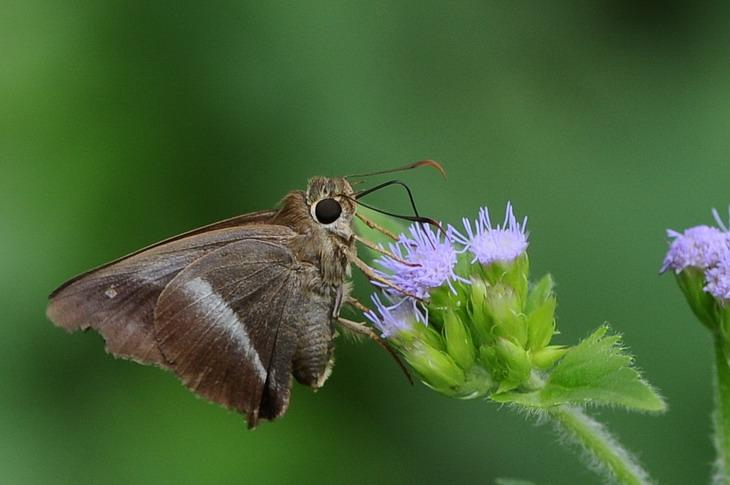Hesperiidae: (45, 151, 451, 432)
